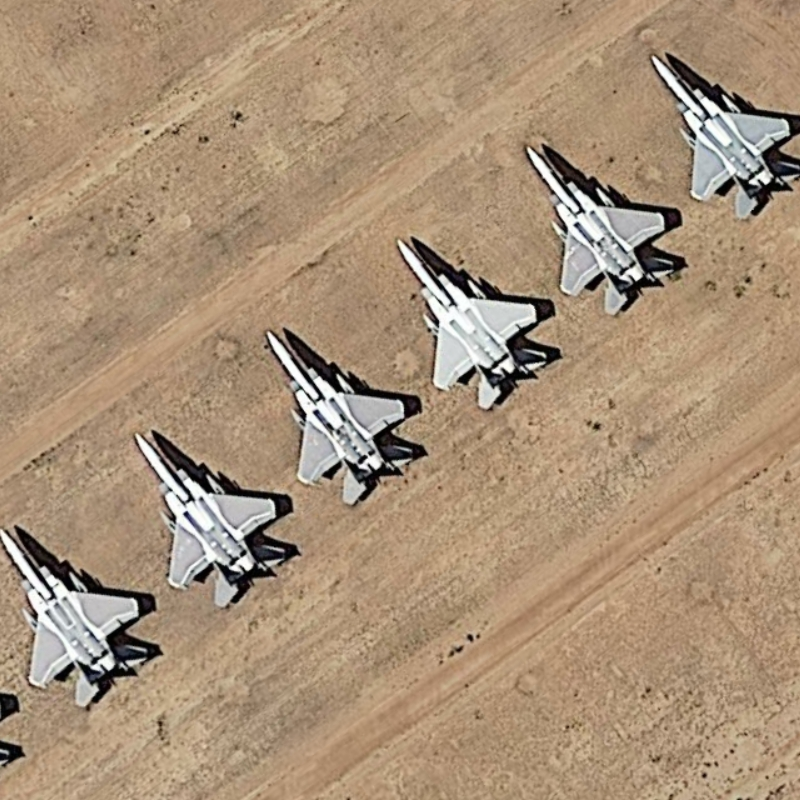A13: (261, 322, 431, 513), (394, 230, 558, 419), (135, 428, 297, 613), (521, 137, 682, 323), (4, 523, 157, 716), (644, 49, 797, 229)
